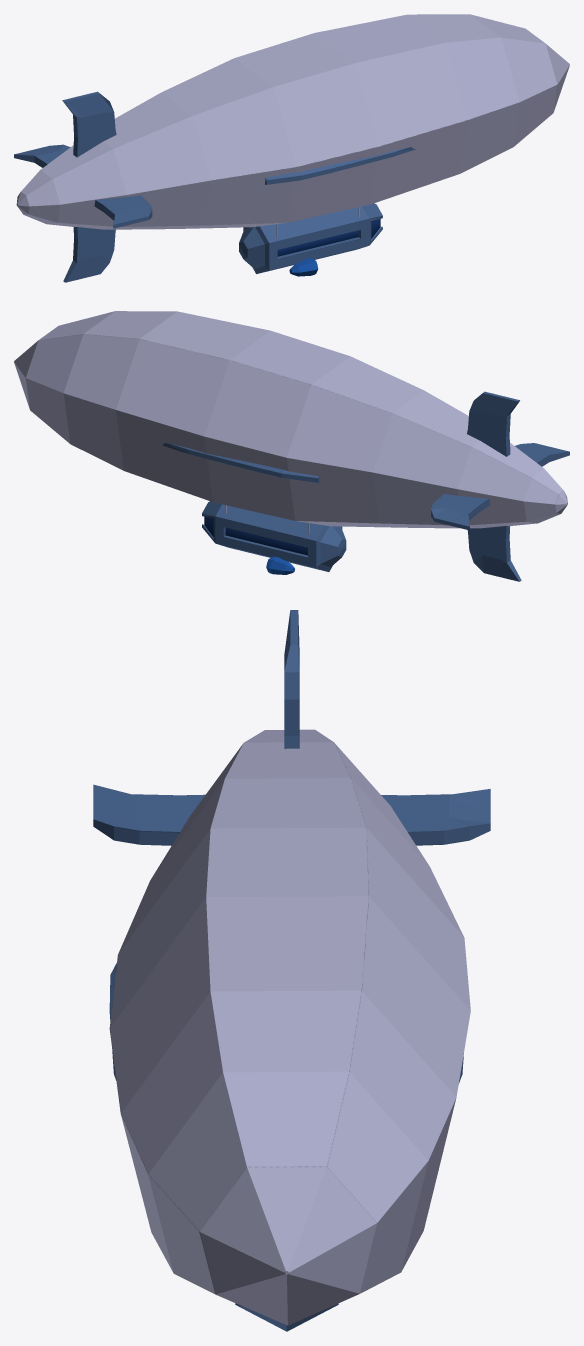
Rendered from airship.glb.
3 views of the same model, one above another, from view 1: azimuth 30°, elevation 25°; view 2: azimuth 150°, elevation 25°; view 3: azimuth 270°, elevation 25° (orthographic). The views are drawn at different scales.
Parts seen in each view (by area): view 1: Node; view 2: Node; view 3: Node.
Boxes of the visible parts, x1,y1,x2,y2 form: Node: (14, 14, 569, 282); Node: (14, 311, 569, 581); Node: (93, 610, 490, 1331).
Size of the model in its own units: 674 by 255 by 211.
Materials: 1 (1 with a texture image).
